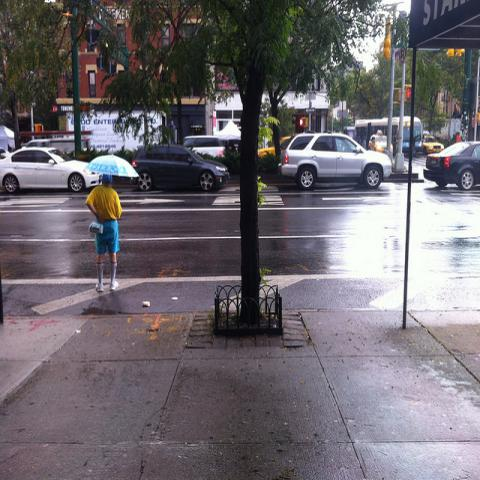bus: (355, 115, 423, 158)
car: (278, 132, 392, 190), (0, 145, 104, 195), (131, 144, 229, 190), (424, 140, 480, 190), (183, 137, 225, 156), (257, 136, 293, 158), (421, 134, 446, 156)
truck: (65, 111, 168, 154)
